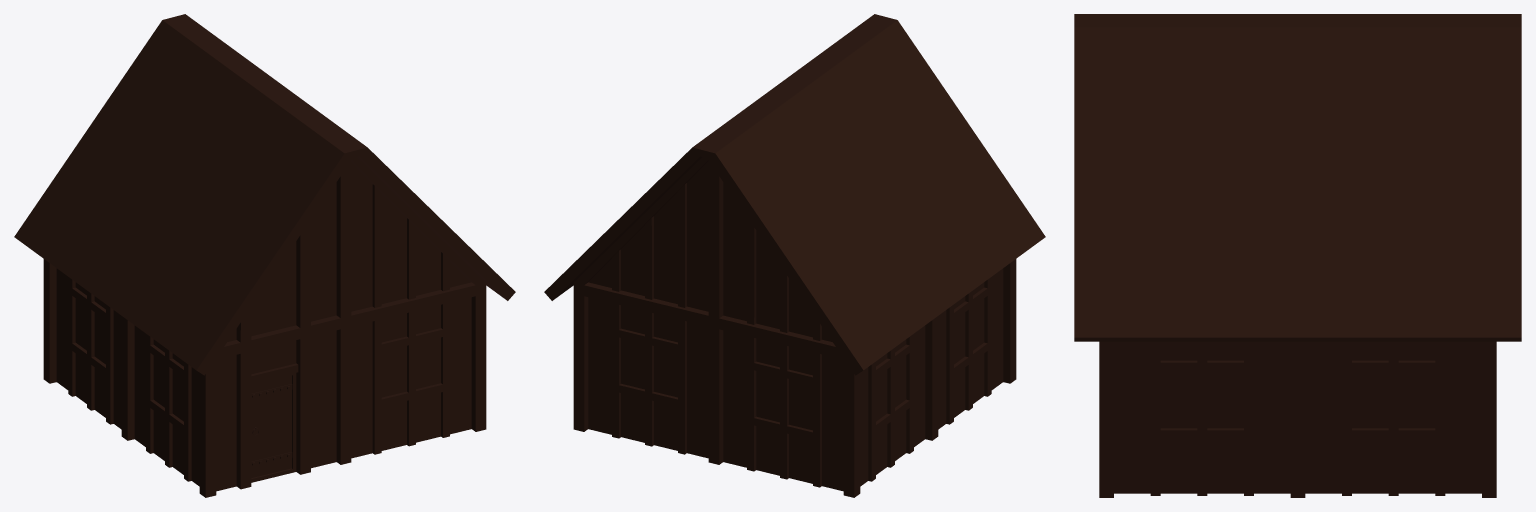
File: House002.FBX
3 renders of one model, left to right at view 1: azimuth 30°, elevation 25°; view 2: azimuth 150°, elevation 25°; view 3: azimuth 270°, elevation 25°, orthographic. The views are drawn at different scales.
Parts seen in each view (by area): view 1: House; view 2: House; view 3: House.
Part boxes in pixels (x1,y1,x2,y2): House: [14, 14, 515, 497]; House: [544, 14, 1045, 497]; House: [1074, 14, 1521, 497].
Size of the model in its own units: 91.07 by 87.41 by 90.
